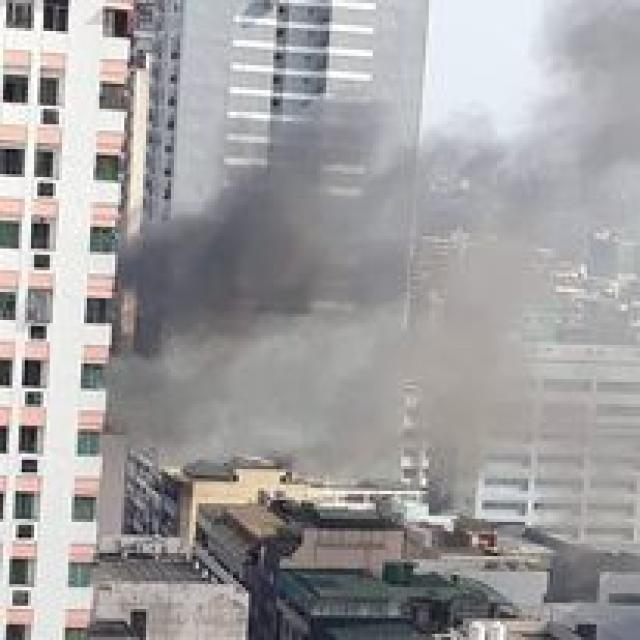Smoke: (310, 101, 510, 472), (115, 228, 348, 446), (532, 7, 640, 209)
